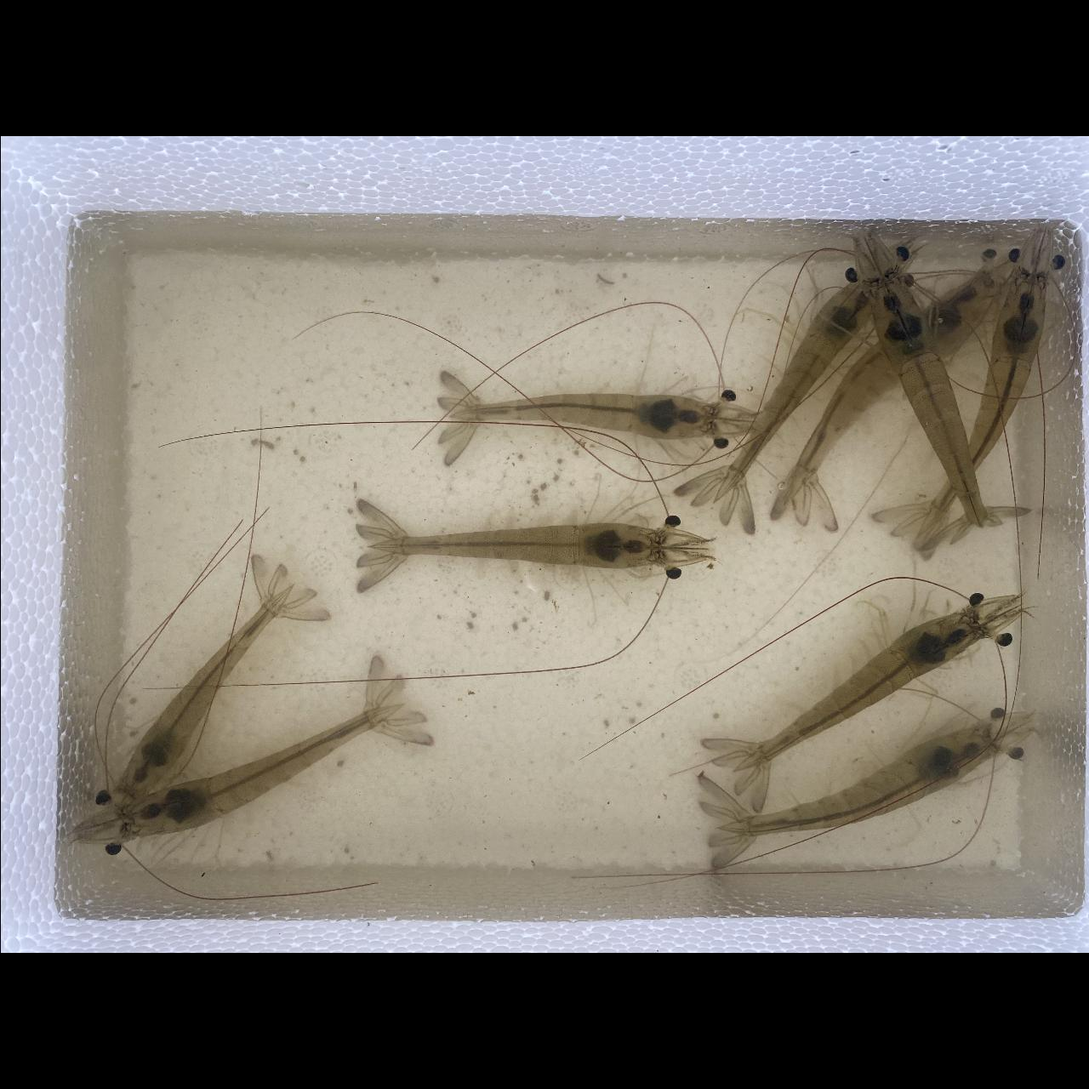side_shrimp: (783, 274, 989, 506)
top_shrimp: (735, 613, 978, 767), (121, 703, 395, 835), (720, 276, 885, 493), (123, 587, 288, 800), (914, 275, 1046, 540), (721, 727, 992, 835), (873, 282, 978, 522), (373, 524, 659, 567), (451, 393, 711, 439)
